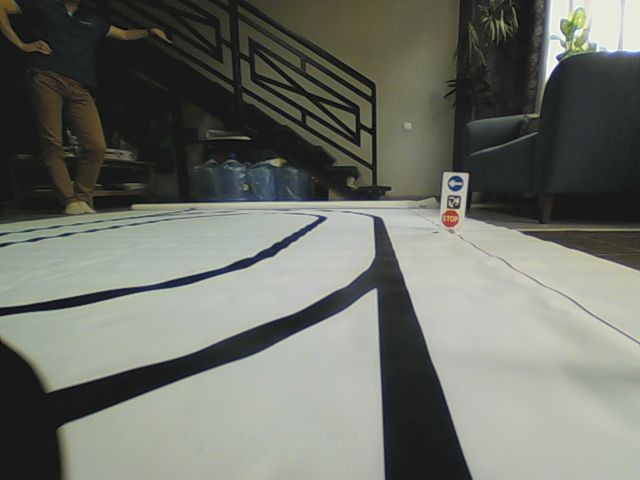Stop: (440, 209, 460, 228)
